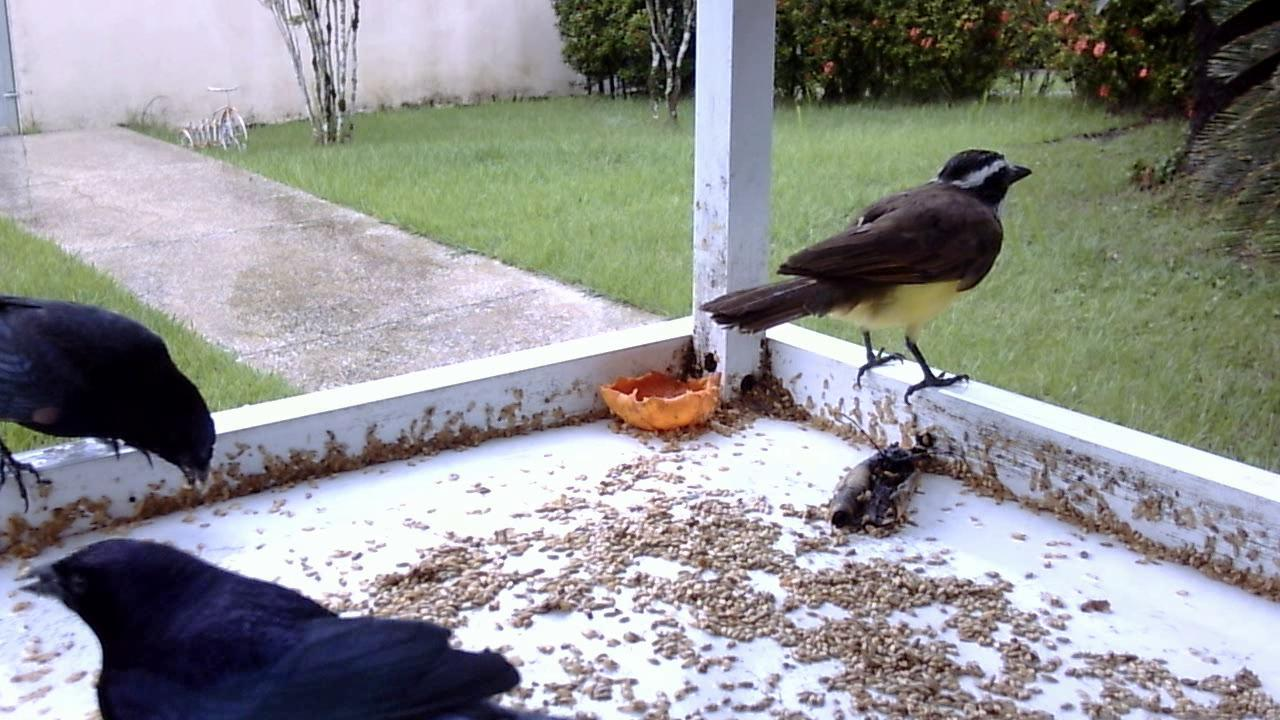bem_te_vi: (698, 141, 1035, 411)
chupim: (25, 493, 535, 720), (1, 289, 222, 519)
